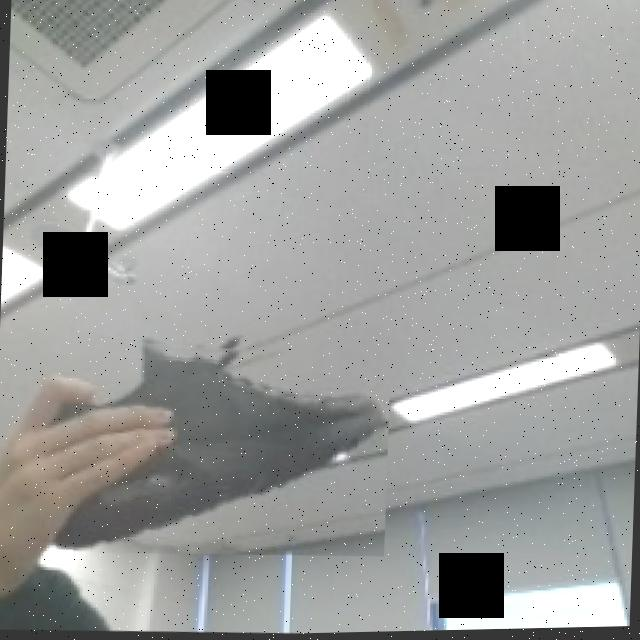shoe: (30, 329, 391, 564)
